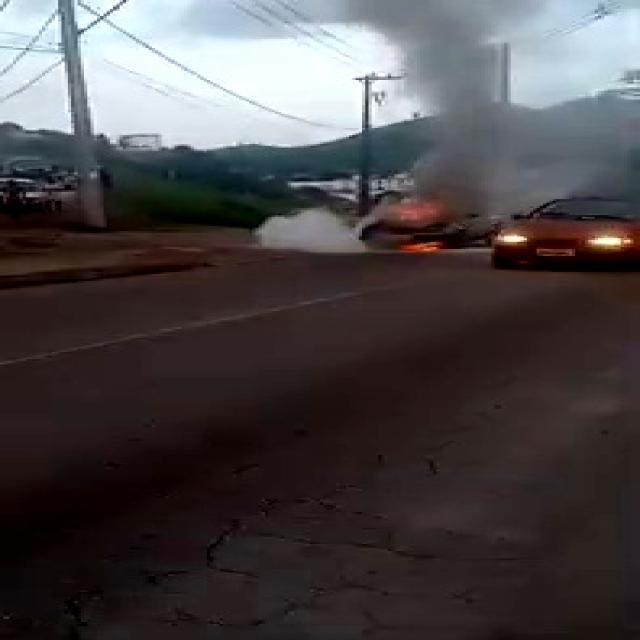Smoke: (378, 2, 570, 202), (264, 204, 364, 262)
